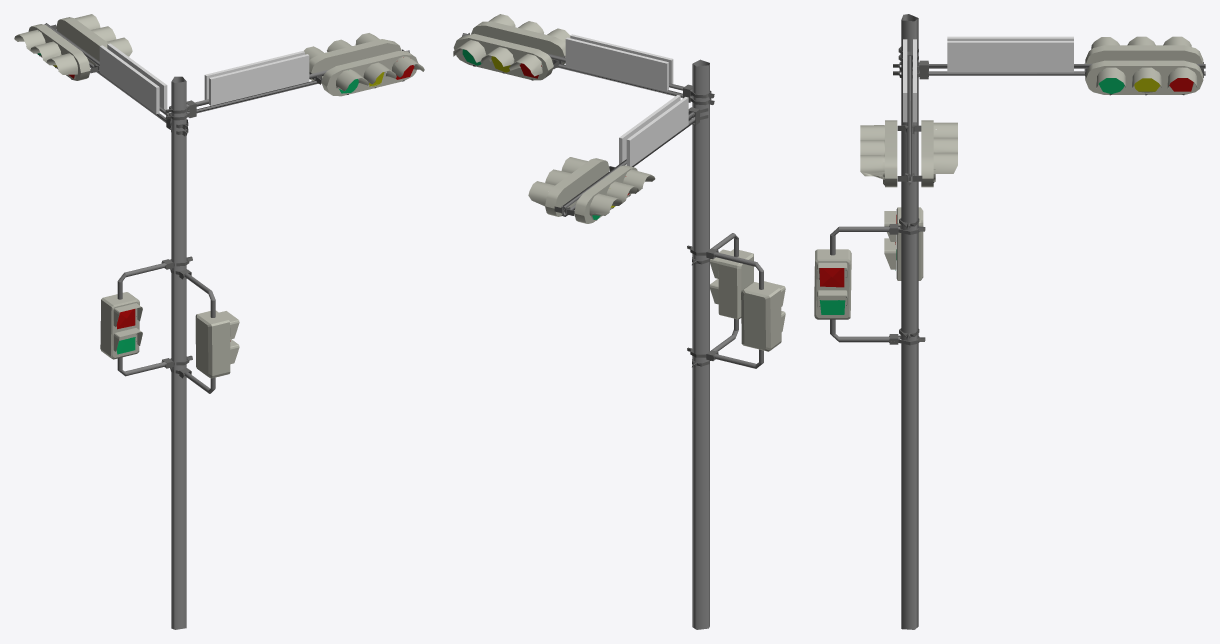
The model's file is singouki_middle.fbx.
3 views of the same model, side by side, from view 1: azimuth 30°, elevation 25°; view 2: azimuth 150°, elevation 25°; view 3: azimuth 270°, elevation 25° (orthographic). The views are drawn at different scales.
Visible parts, largest first — view 1: Car1, polySurface1407, Car0, Walk0, Walk1; view 2: polySurface1407, Car1, Car0, Walk0, Walk1; view 3: Car0, polySurface1407, Car1, Walk1, Walk0.
Part boxes in pixels (x1,y1,x2,y2): Car1: [165, 33, 424, 120]; polySurface1407: [171, 76, 186, 629]; Car0: [14, 14, 188, 136]; Walk0: [100, 256, 192, 376]; Walk1: [170, 269, 239, 393]; polySurface1407: [692, 59, 709, 629]; Car1: [453, 14, 714, 105]; Car0: [528, 95, 708, 223]; Walk0: [687, 245, 785, 368]; Walk1: [692, 233, 753, 367]; Car0: [893, 36, 1205, 95]; polySurface1407: [901, 14, 918, 629]; Car1: [860, 39, 957, 187]; Walk1: [814, 224, 925, 345]; Walk0: [884, 207, 923, 339].
Size of the model in its own units: 407 by 700 by 408.
